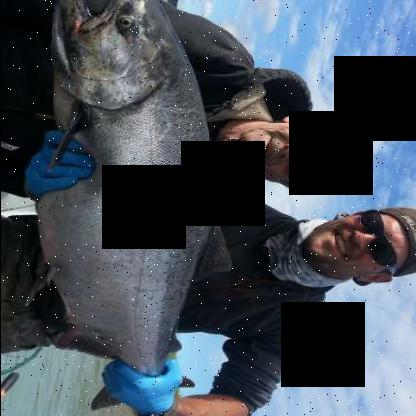fish: (35, 0, 230, 410)
